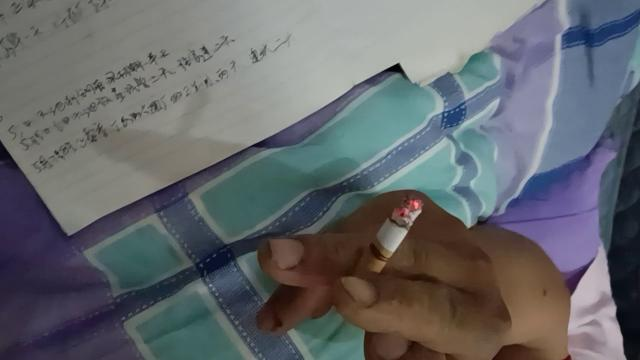Cigarette: (336, 195, 422, 319)
